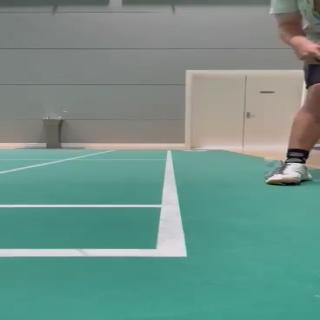Shuttle: (264, 157, 274, 165)
